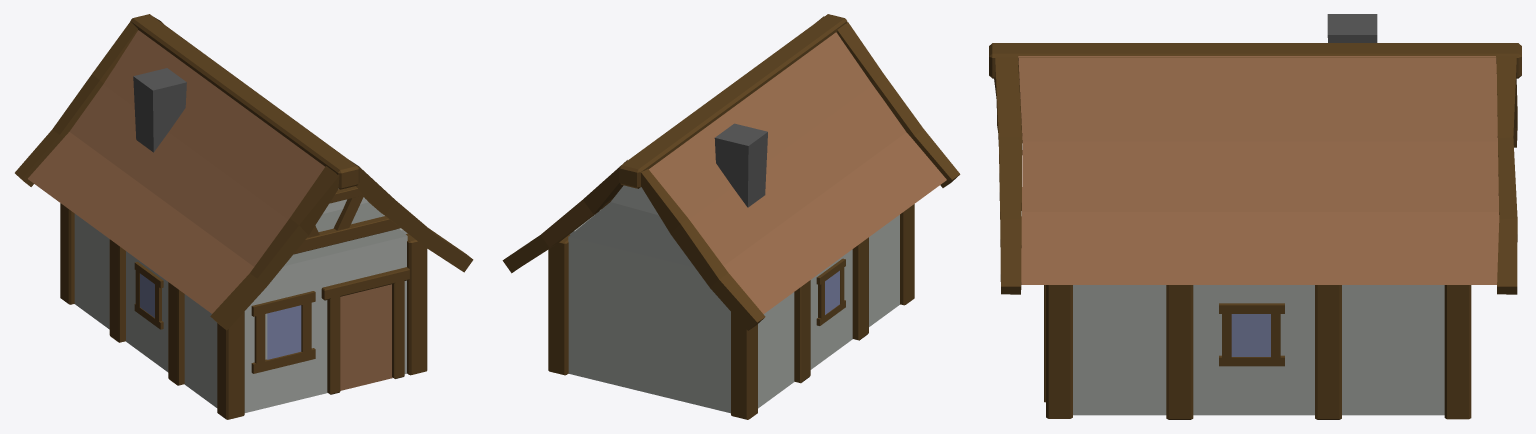
The model's file is House1.fbx.
3 views of the same model, side by side, from view 1: azimuth 30°, elevation 25°; view 2: azimuth 150°, elevation 25°; view 3: azimuth 270°, elevation 25° (orthographic). The views are drawn at different scales.
Visible parts, largest first — view 1: Foundation, walls; view 2: Foundation, walls; view 3: Foundation, walls.
Boxes of the visible parts, bbox=[...] form: Foundation: bbox=[15, 14, 473, 419]; walls: bbox=[74, 188, 407, 412]; Foundation: bbox=[502, 14, 960, 419]; walls: bbox=[568, 185, 899, 413]; Foundation: bbox=[989, 14, 1521, 419]; walls: bbox=[1073, 285, 1444, 415].
Bounding box in the file's own units: 1709 × 1554 × 2426.
